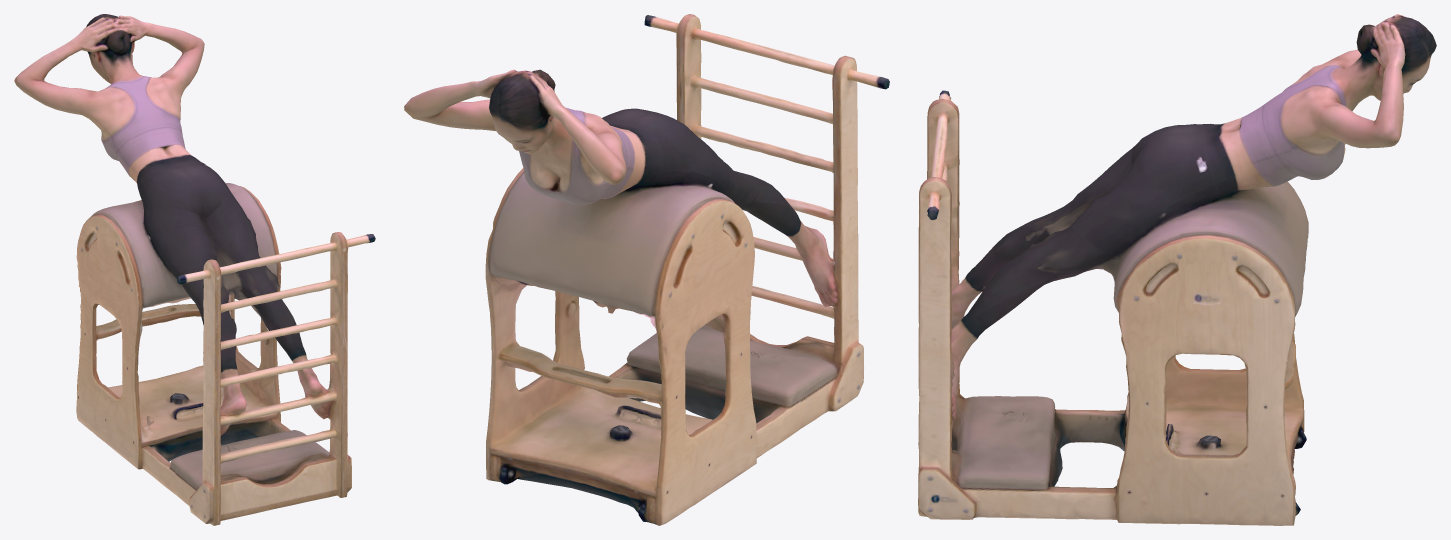
The picture shows the model from 3 angles, left to right: view 1: azimuth 30°, elevation 25°; view 2: azimuth 150°, elevation 25°; view 3: azimuth 270°, elevation 25°; orthographic projection. The views are drawn at different scales.
Visible parts, largest first — view 1: Frame_0197; view 2: Frame_0197; view 3: Frame_0197.
Part boxes in pixels (x1,y1,x2,y2): Frame_0197: [14, 14, 375, 525]; Frame_0197: [404, 14, 889, 525]; Frame_0197: [918, 14, 1436, 525].
Bounding box in the file's own units: 0.8364 × 1.45 × 1.46.
Materials: 1 (1 with a texture image).
